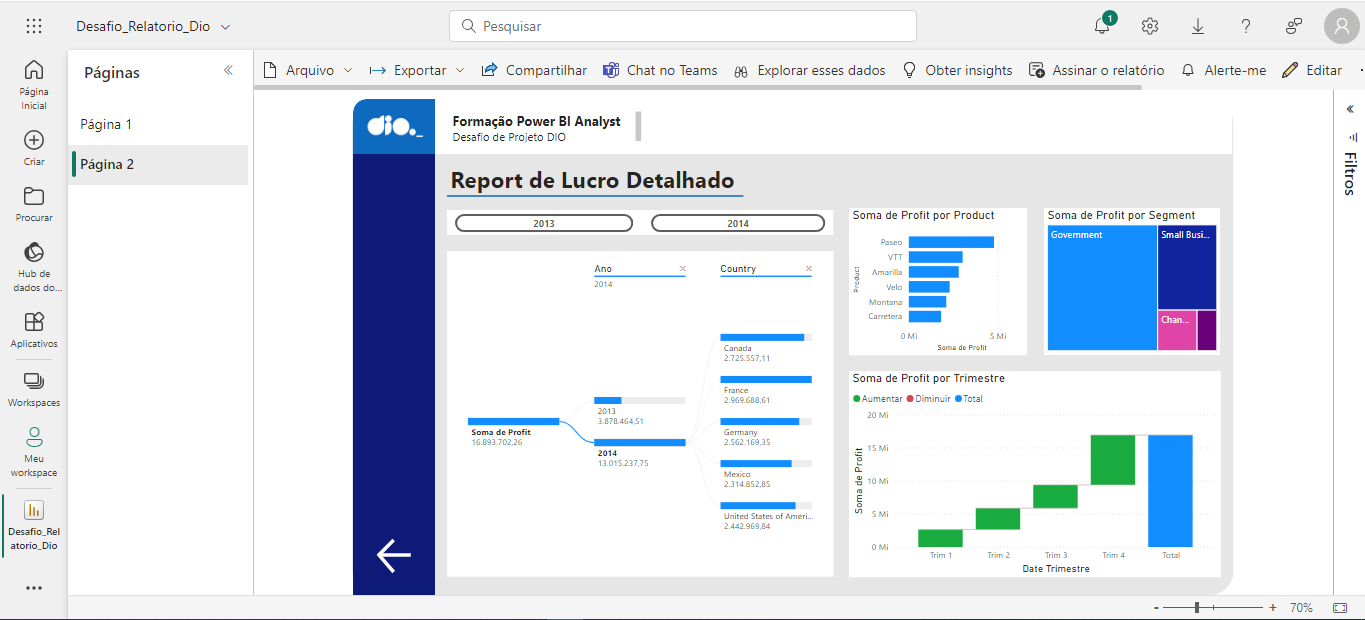

Layout of this report page (visuals, bound fields, positions):
{"tool":"powerbi","page":{"name":"Página 2","canvas":[1280,720],"ordinal":1},"visuals":[{"type":"shape","box":[10.5,12.3,1257.2,707.6],"z":0},{"type":"actionButton","title":"Botão - 2013","box":[157.1,177.1,254.3,25.7],"z":0,"group":"g1"},{"type":"shape","box":[11.4,12.9,117.1,707.1],"z":1000},{"type":"actionButton","title":"Botão - 2014","box":[437.1,177.1,248.6,25.7],"z":1000,"group":"g1"},{"type":"shape","box":[11,12.4,118.6,78.6],"z":2000},{"type":"image","box":[26.8,7.1,89.3,89.3],"z":3000},{"type":"shape","box":[128.6,12.9,1137.1,78.6],"z":4000},{"type":"textbox","box":[148.2,25,278.6,53.6],"z":5000},{"type":"textbox","box":[145.7,100,442.9,58.6],"z":6000},{"type":"shape","box":[145.7,144.3,422.9,14.3],"z":7000},{"type":"actionButton","box":[37.1,634.3,67.1,60],"z":8000},{"type":"shape","box":[145.7,171.4,551.4,35.7],"z":9000},{"type":"shape","box":[145.7,230,551.4,464.3],"z":10000},{"type":"shape","box":[718.6,400,530,294.3],"z":11000},{"type":"shape","box":[718.6,168.6,254.3,210],"z":12000},{"type":"shape","box":[997.1,168.6,251.4,210],"z":13000},{"type":"treemap","fields":{"Values":["Sum(financials.Profit)"],"Group":["financials.Segment"]},"box":[997.1,168.6,251.4,208.6],"z":14000},{"type":"clusteredBarChart","fields":{"Y":["Sum(financials.Profit)"],"Category":["financials.Product"]},"box":[718.6,168.6,254.3,210],"z":15000},{"type":"waterfallChart","fields":{"Y":["Sum(financials.Profit)"],"Category":["financials.Date.Variation.Hierarquia de datas.Trimestre"]},"box":[718.6,400,530,294.3],"z":16000},{"type":"decompositionTreeVisual","fields":{"Analyze":["Sum(financials.Profit)"],"ExplainBy":["financials.Date.Variation.Hierarquia de datas.Ano","financials.Country"]},"box":[145.7,230,551.4,464.3],"z":17000},{"type":"group","id":"g1","title":"Botões - Ano","box":[157.1,177.1,528.6,25.7],"z":18000}]}

Visuals, with their boxes on the page's 1280x720 design canvas (x1, y1, x2, y2). These are canvas units, not pixel positions in the 1365x620 screenshot, which may show the page scaled, cropped or inside an application window:
shape: (10, 12, 1268, 720)
"Botão - 2013" actionButton: (157, 177, 411, 203)
shape: (11, 13, 128, 720)
"Botão - 2014" actionButton: (437, 177, 686, 203)
shape: (11, 12, 130, 91)
image: (27, 7, 116, 96)
shape: (129, 13, 1266, 92)
textbox: (148, 25, 427, 79)
textbox: (146, 100, 589, 159)
shape: (146, 144, 569, 159)
actionButton: (37, 634, 104, 694)
shape: (146, 171, 697, 207)
shape: (146, 230, 697, 694)
shape: (719, 400, 1249, 694)
shape: (719, 169, 973, 379)
shape: (997, 169, 1248, 379)
treemap - Sum(financials.Profit) x financials.Segment: (997, 169, 1248, 377)
clusteredBarChart - Sum(financials.Profit) x financials.Product: (719, 169, 973, 379)
waterfallChart - Sum(financials.Profit) x financials.Date.Variation.Hierarquia de datas.Trimestre: (719, 400, 1249, 694)
decompositionTreeVisual - Sum(financials.Profit) x financials.Date.Variation.Hierarquia de datas.Ano: (146, 230, 697, 694)
"Botões - Ano" group: (157, 177, 686, 203)
